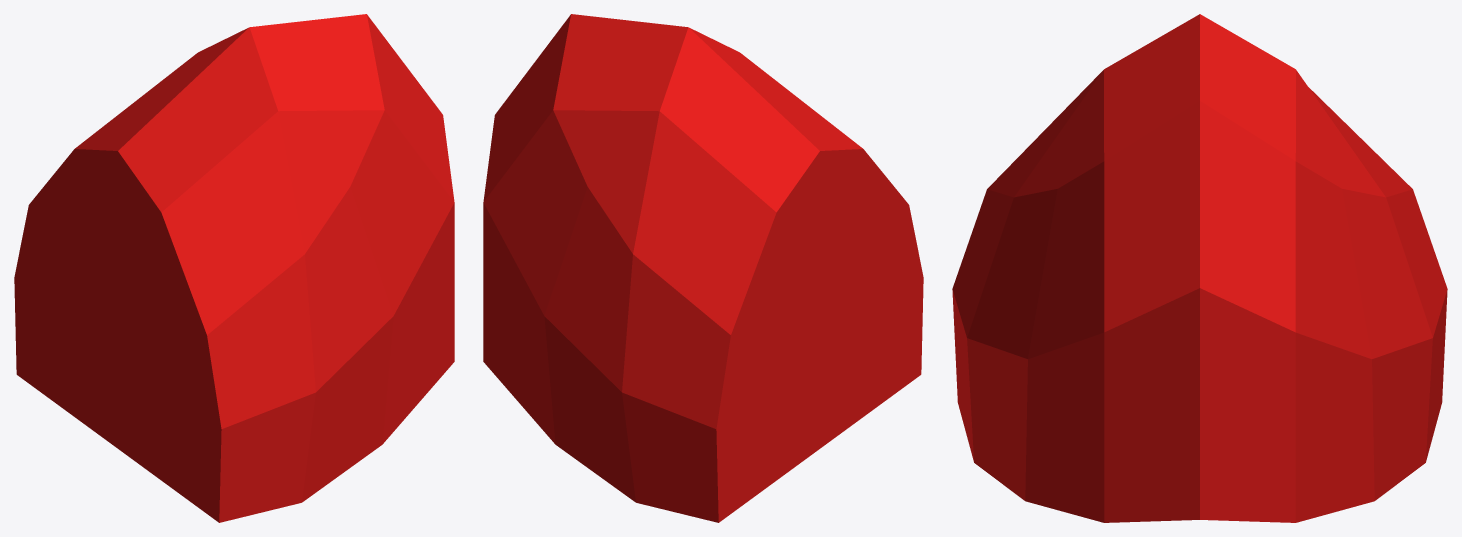
The model's file is HealthRU.fbx.
The picture shows the model from 3 angles, left to right: view 1: azimuth 30°, elevation 25°; view 2: azimuth 150°, elevation 25°; view 3: azimuth 270°, elevation 25°; orthographic projection. The views are drawn at different scales.
Parts seen in each view (by area): view 1: Health.RU; view 2: Health.RU; view 3: Health.RU.
Part boxes in pixels (x1=…): Health.RU: x1=14, y1=14, x2=454, y2=522; Health.RU: x1=483, y1=14, x2=923, y2=522; Health.RU: x1=952, y1=14, x2=1447, y2=522.
Size of the model in its own units: 198 by 228 by 216.
